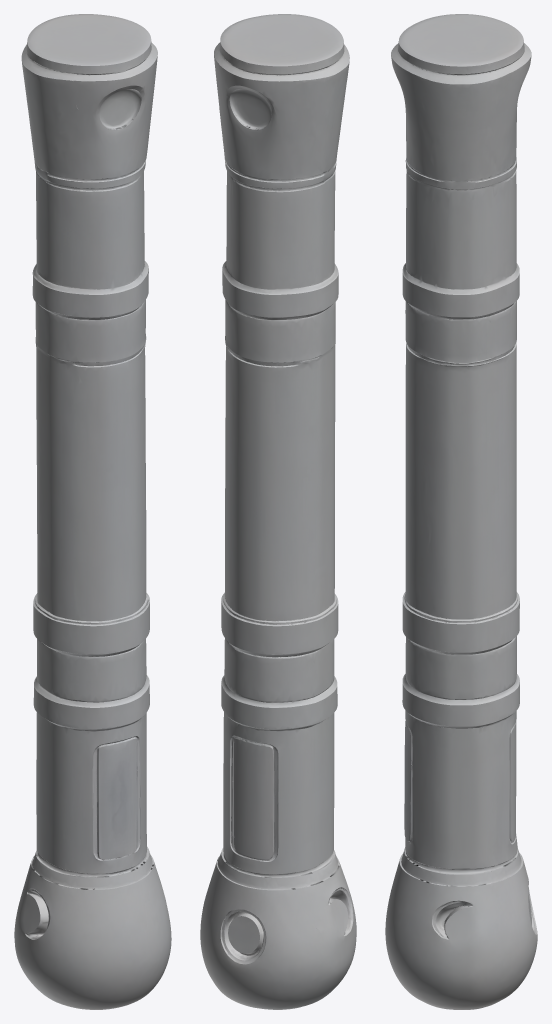
File: saber_hilt_a.glb
3 renders of one model, left to right at view 1: azimuth 30°, elevation 25°; view 2: azimuth 150°, elevation 25°; view 3: azimuth 270°, elevation 25°, orthographic.
Parts seen in each view (by area): view 1: model; view 2: model; view 3: model.
Boxes of the visible parts, left/top/right/bottom form: model: left=14, top=14, right=171, bottom=1009; model: left=200, top=14, right=356, bottom=1009; model: left=385, top=14, right=537, bottom=1009.
Bounding box in the file's own units: 0.2841 × 1.9 × 0.2758.
Materials: 1 (1 with a texture image).
